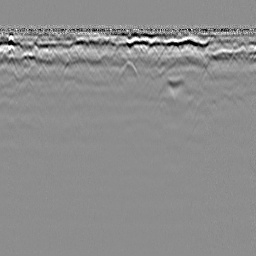cavity: (116, 58, 140, 79)
